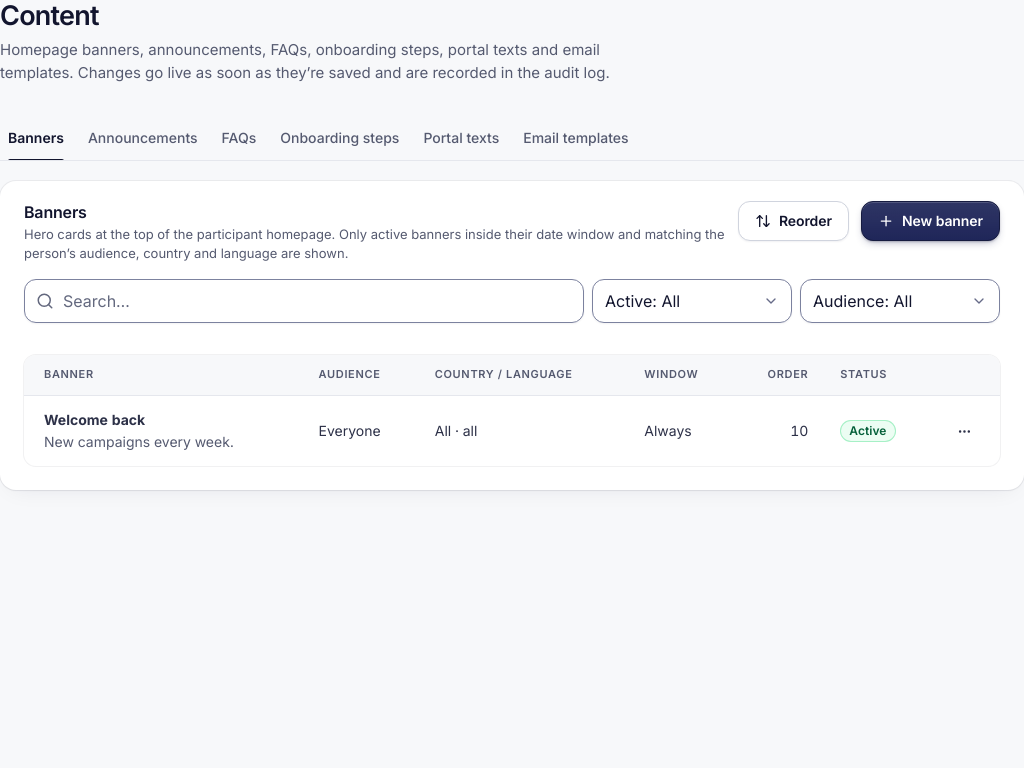
Content — banners › opens an empty form for each new banner
The width and height of the screenshot is (1024, 768).
Expected: the text "Welcome back" is shown, top-left (44, 411), bottom-right (145, 428)
Step 1. Click the button "New banner" → (930, 221), box top-left (861, 201), bottom-right (1000, 241)
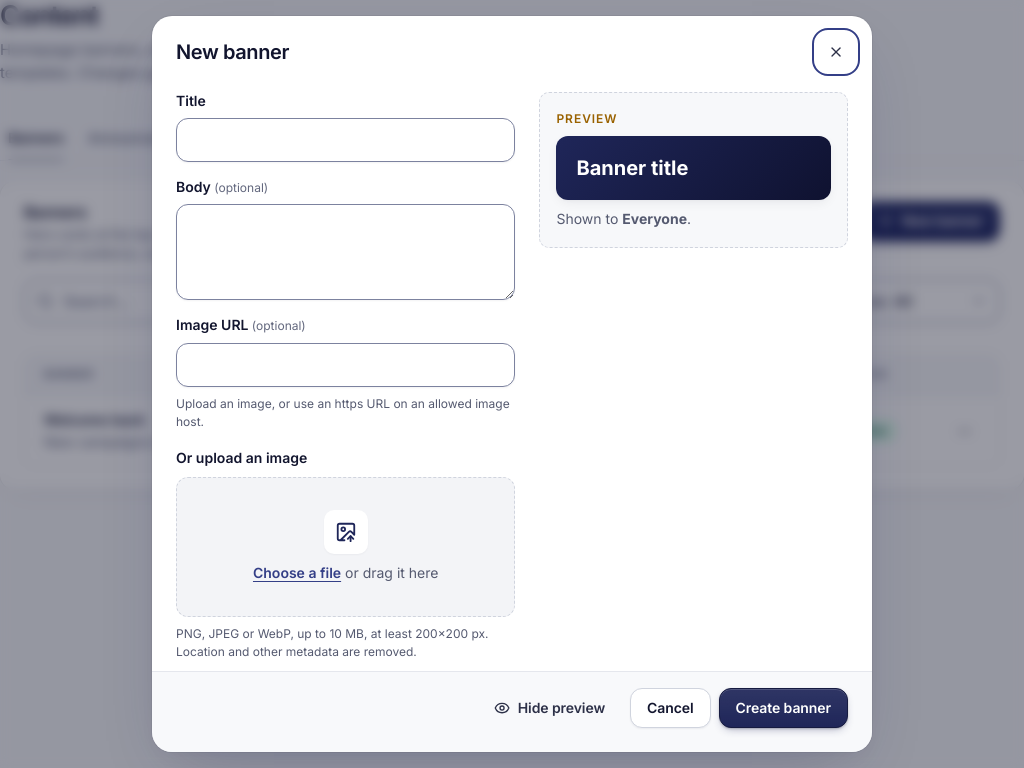
Step 2. Type "First" into the field labelled "Title" → (346, 140), box top-left (176, 118), bottom-right (515, 162)
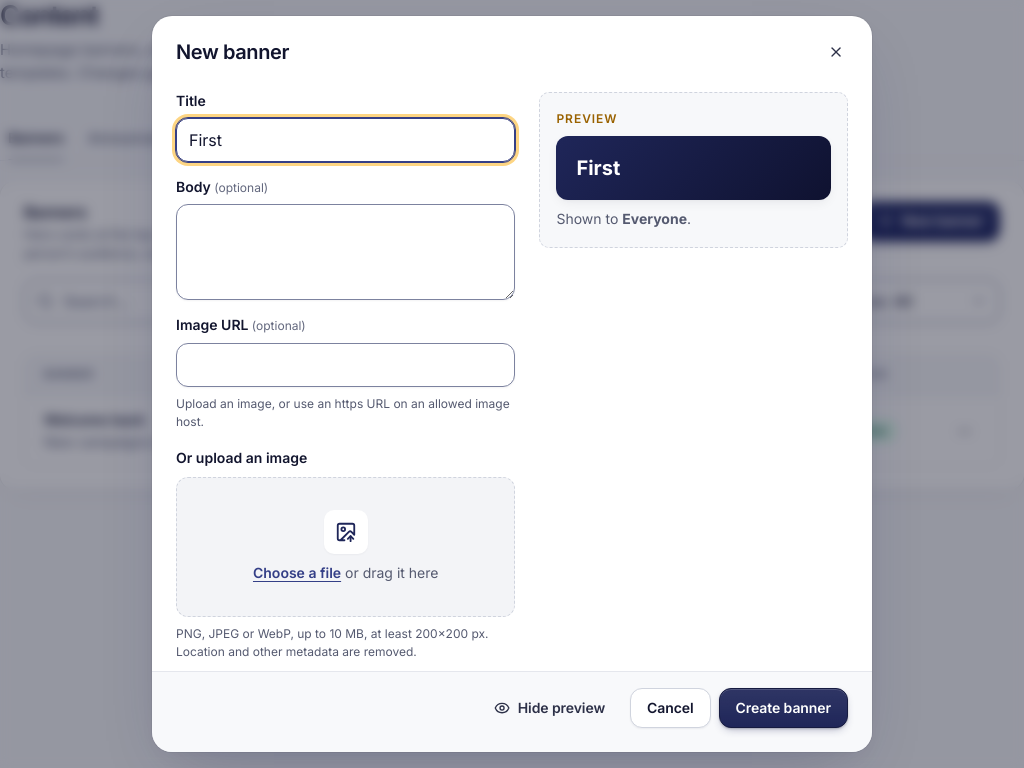
Step 3. Type "Some body" into the text box labelled "Body (optional)" → (346, 252), box top-left (176, 204), bottom-right (515, 300)
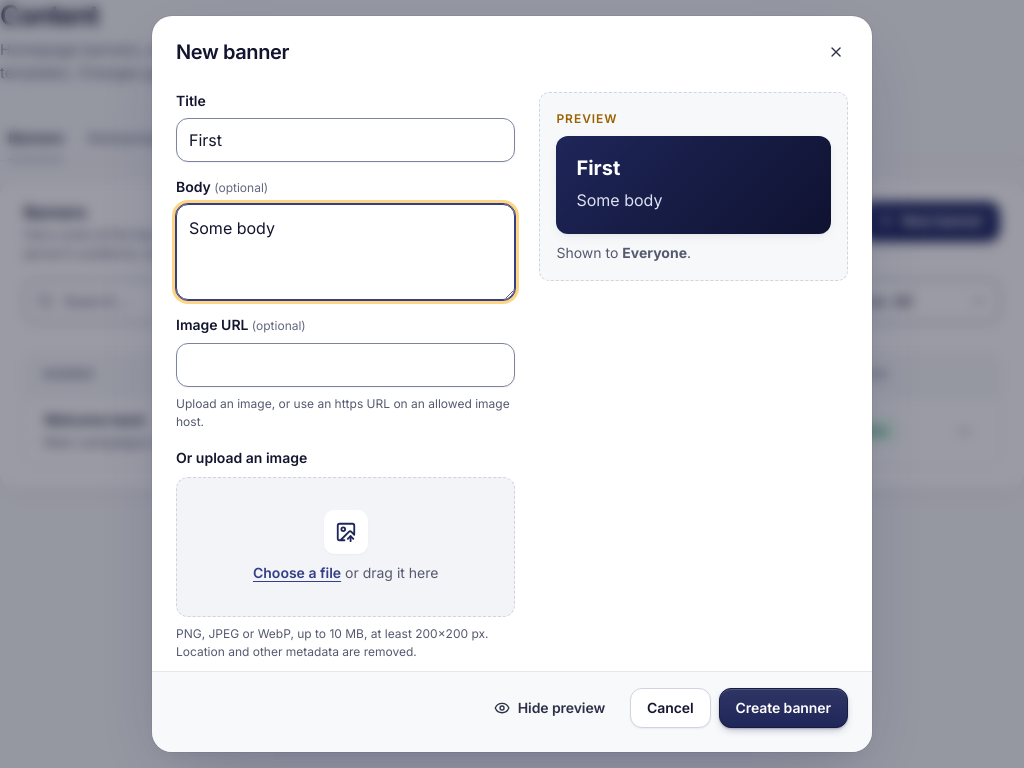
Step 4. Click the button "Create banner" → (783, 708), box top-left (719, 688), bottom-right (848, 728)
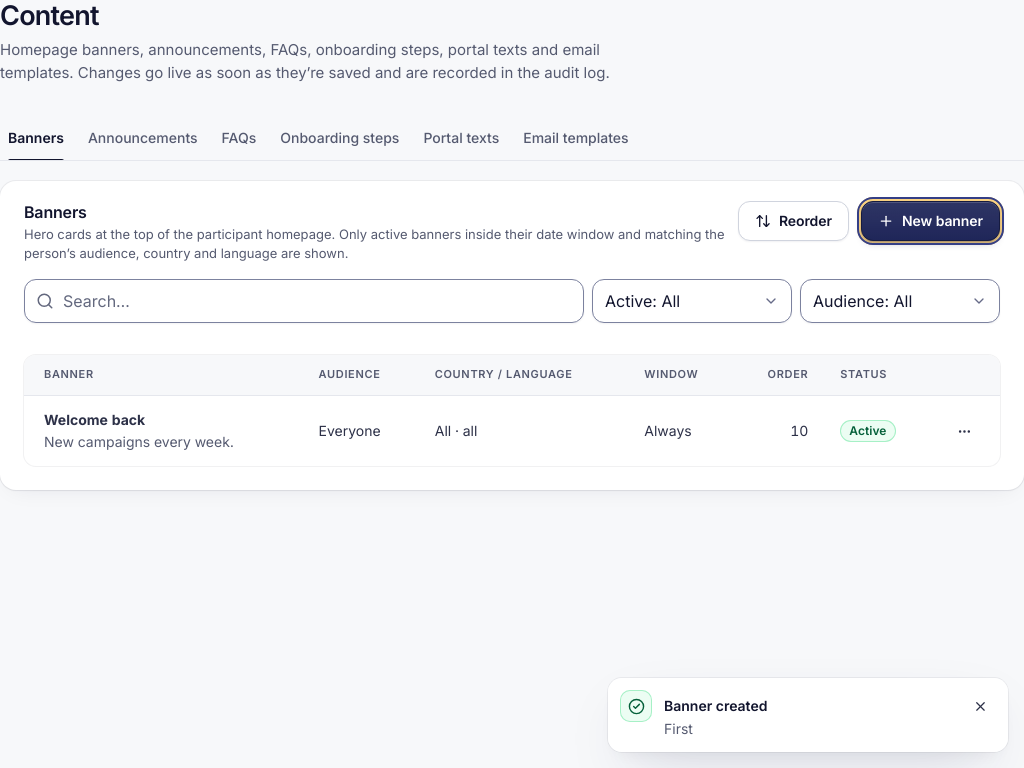
Expected: the dialog is gone
Step 5. Click the button "New banner" → (930, 221), box top-left (861, 201), bottom-right (1000, 241)
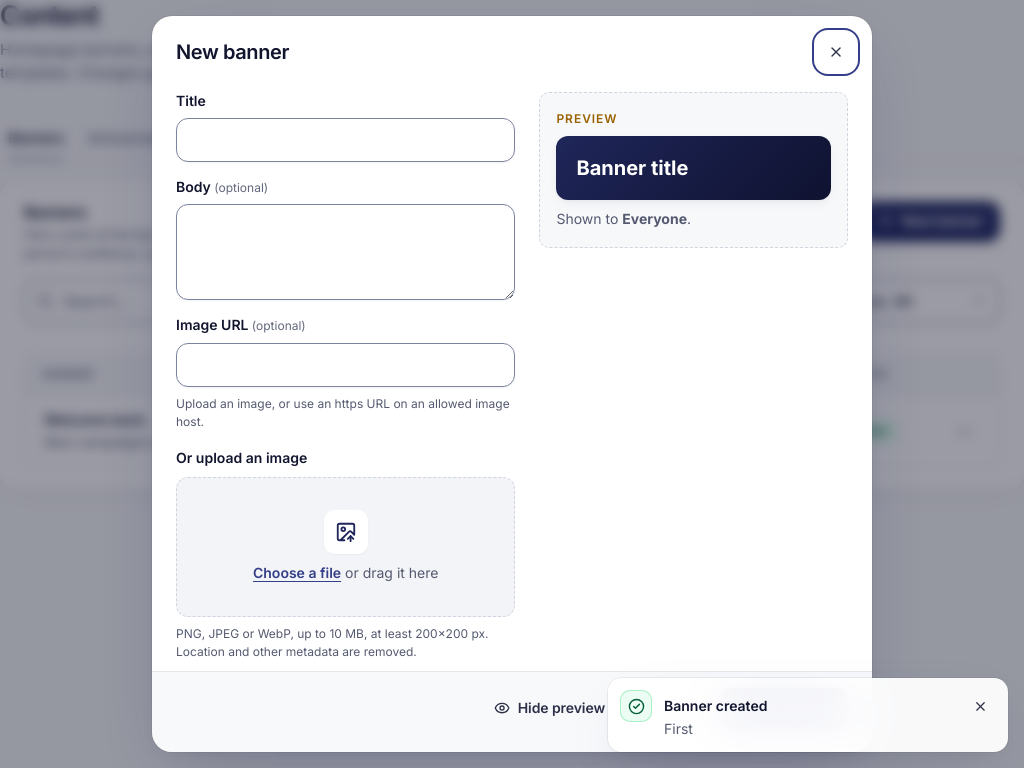
Expected: the field labelled "Title" is empty, top-left (176, 118), bottom-right (515, 162)
Expected: the text box labelled "Body (optional)" is empty, top-left (176, 204), bottom-right (515, 300)
